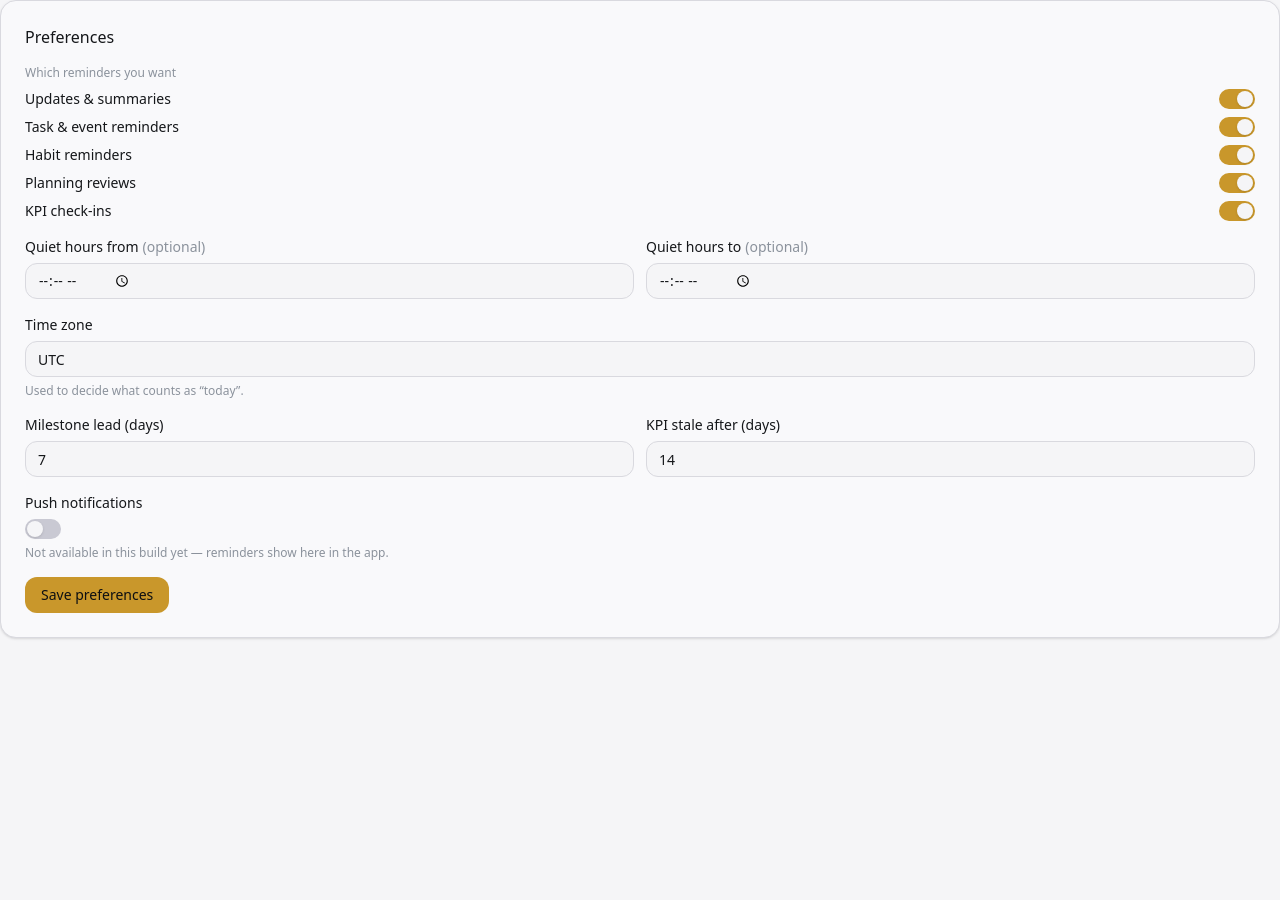
Test: NotificationPreferencesPanel › saves the current draft, including a toggled-off category
# Turn off "Habit reminders"
What coordinates should you click on to do the following:
click the switch in the row of "Habit reminders"
I would click on:
 (1237, 155)
Its box is [1219,145,1255,165].
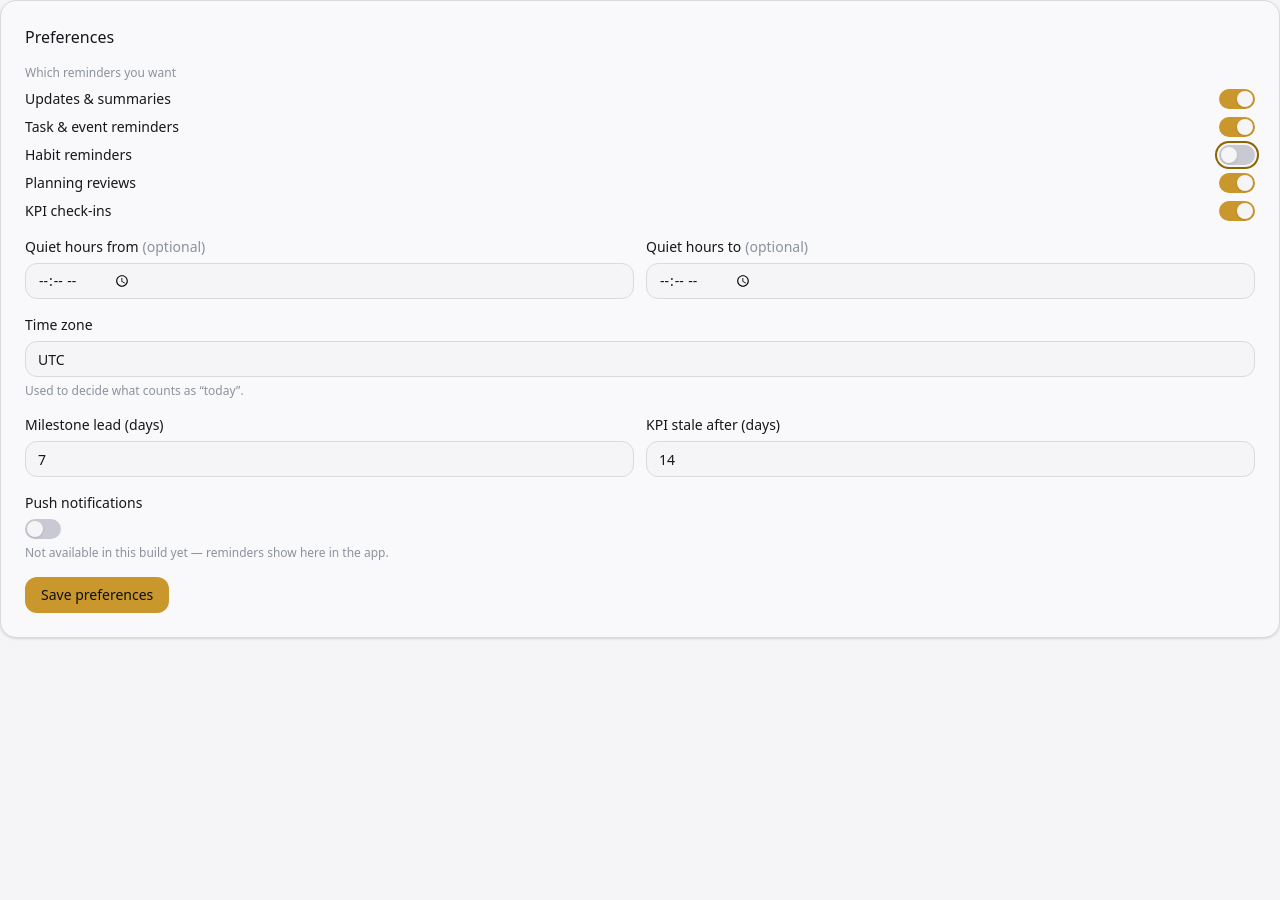
What coordinates should you click on to do the following:
click the button "Save preferences"
I would click on:
 (97, 595)
Its box is [25,577,169,613].
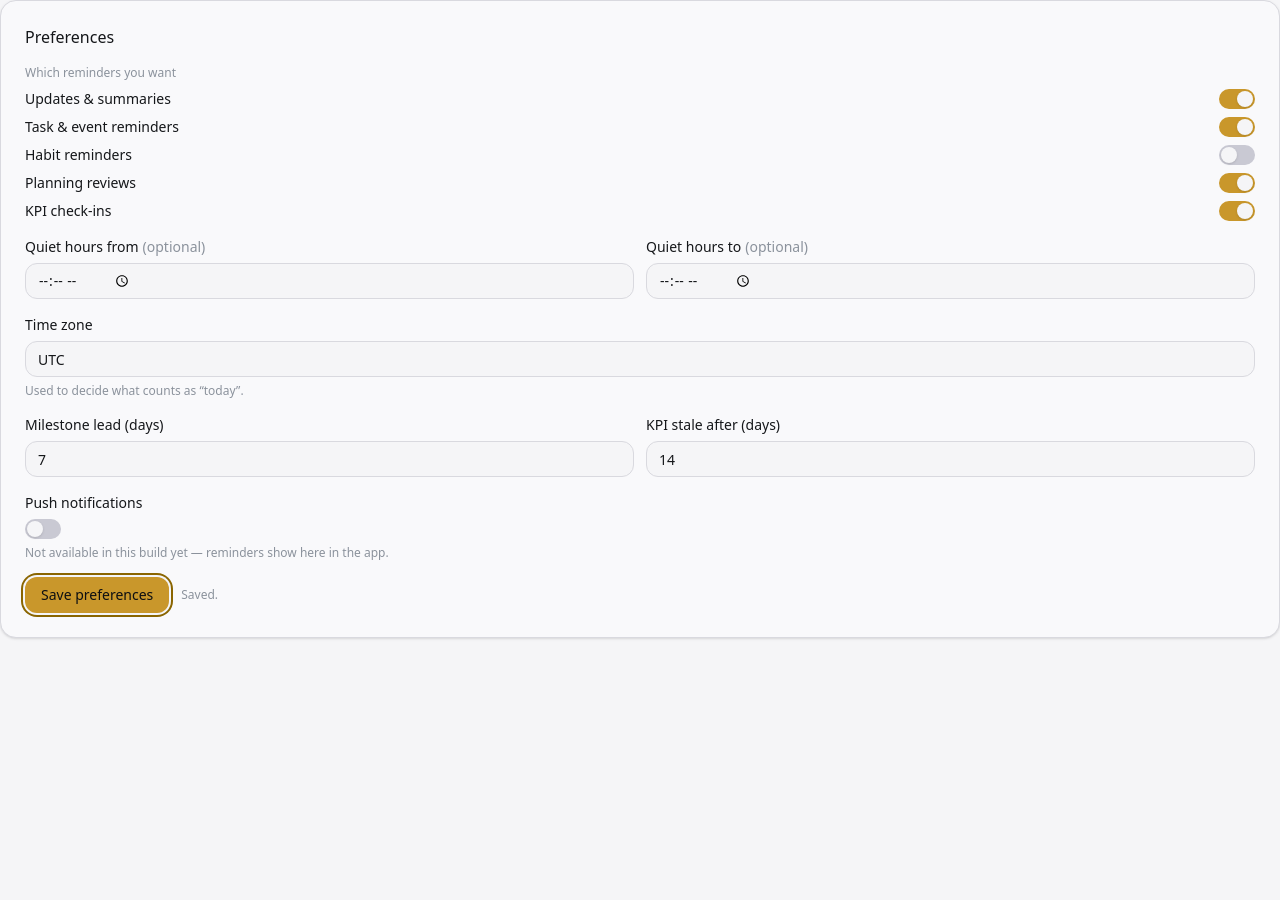
Check: the text "Saved." is shown, box [181,587,218,603]
